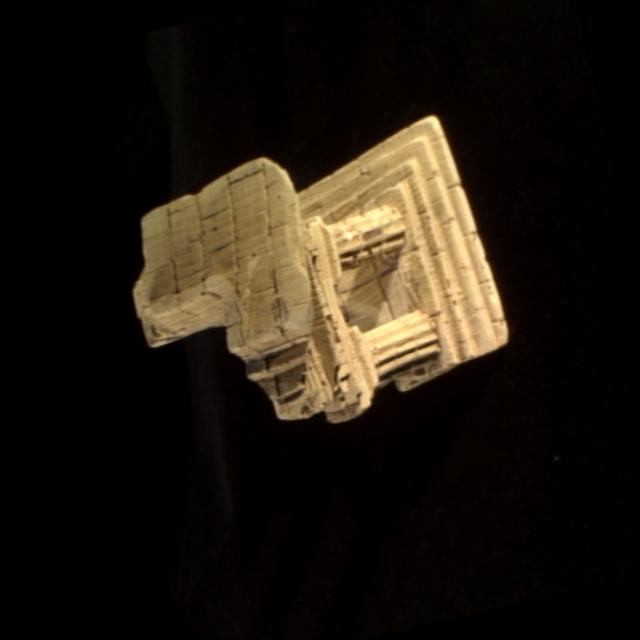Instance-Segmentation: (134, 116, 507, 421)
